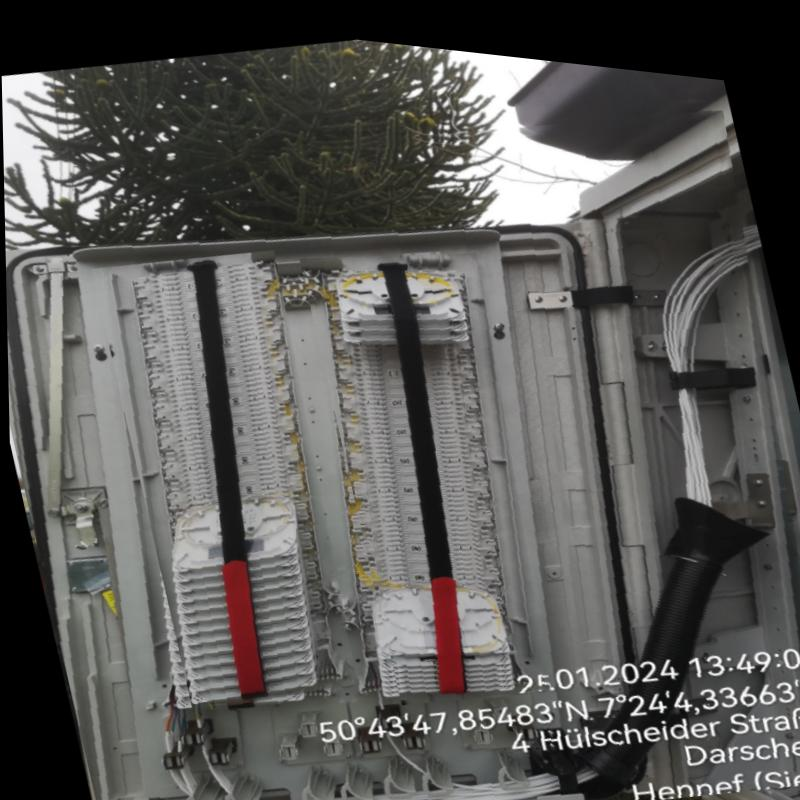NT-Gehause: (4, 90, 800, 800)
Spleiskassetten: (124, 244, 328, 702), (318, 244, 526, 688)
